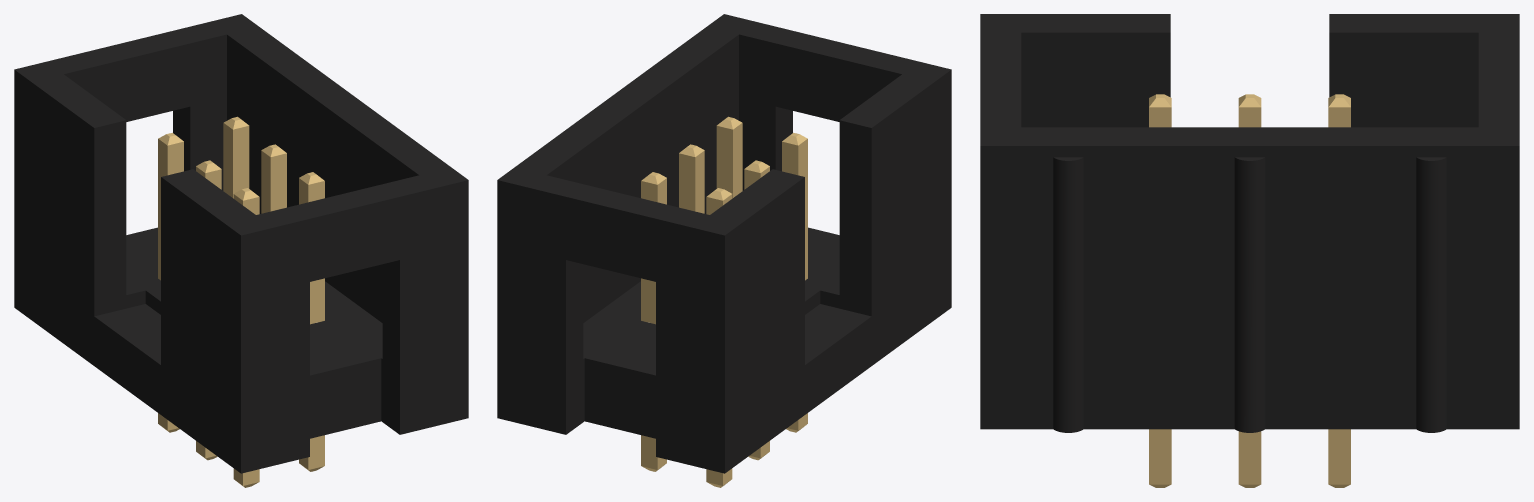
Rendered from kc-idc-header_2x03_p2.54mm_vertical.glb.
The picture shows the model from 3 angles, left to right: view 1: azimuth 30°, elevation 25°; view 2: azimuth 150°, elevation 25°; view 3: azimuth 270°, elevation 25°; orthographic projection. The views are drawn at different scales.
Visible parts, largest first — view 1: 0_0_0_0, 0.75_0.5_0.25_0.9; view 2: 0_0_0_0, 0.75_0.5_0.25_0.9; view 3: 0_0_0_0, 0.75_0.5_0.25_0.9.
Part boxes in pixels (box(x1,y1,x2,y2)): 0_0_0_0: box(14, 14, 468, 473); 0.75_0.5_0.25_0.9: box(158, 116, 324, 487); 0_0_0_0: box(497, 14, 951, 473); 0.75_0.5_0.25_0.9: box(641, 116, 807, 487); 0_0_0_0: box(980, 14, 1519, 432); 0.75_0.5_0.25_0.9: box(1149, 94, 1350, 487).
Size of the model in its own units: 0.91 by 1.21 by 1.53.
